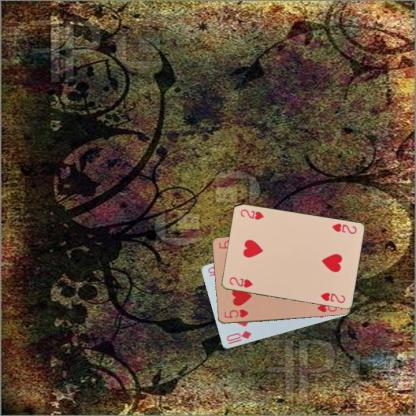10d: (223, 328, 252, 346)
2h: (226, 274, 254, 289), (329, 221, 358, 235)
5h: (222, 306, 249, 321)
